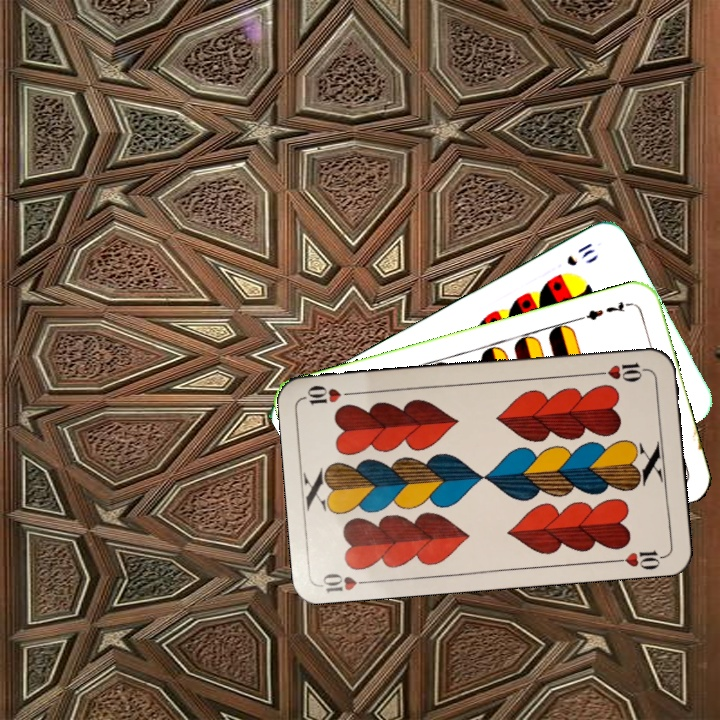E7: (576, 298, 634, 323)
H10: (591, 358, 650, 384), (317, 569, 376, 595)
S10: (562, 238, 597, 269)
